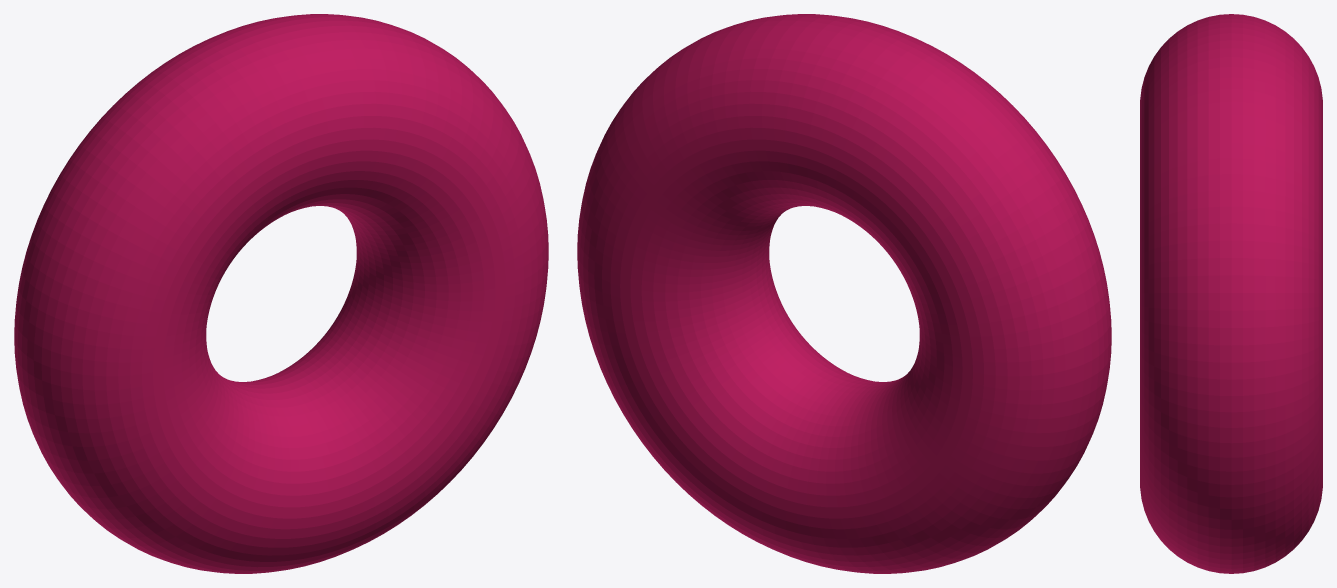
3 renders of one model, left to right at view 1: azimuth 30°, elevation 25°; view 2: azimuth 150°, elevation 25°; view 3: azimuth 270°, elevation 25°, orthographic. The views are drawn at different scales.
Visible parts, largest first — view 1: world; view 2: world; view 3: world.
Boxes of the visible parts, left/top/right/bottom form: world: left=14, top=14, right=548, bottom=573; world: left=577, top=14, right=1111, bottom=573; world: left=1140, top=14, right=1322, bottom=573.
Size of the model in its own units: 20.8 by 20.8 by 6.79.
